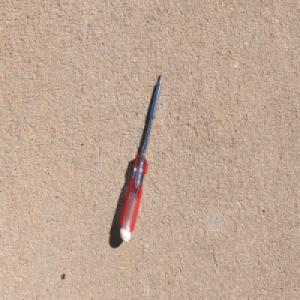Screwdriver: (119, 69, 164, 243)
